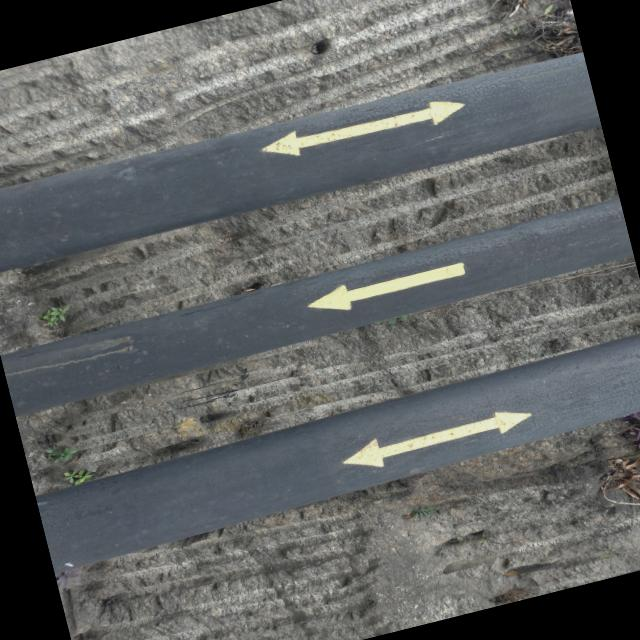gas: (34, 331, 640, 572), (0, 197, 634, 415), (0, 51, 600, 271)
